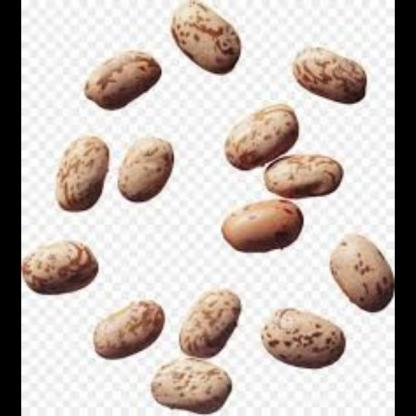beans: (153, 0, 248, 94), (272, 40, 394, 106), (264, 291, 356, 375), (318, 223, 394, 311), (204, 101, 305, 166), (142, 347, 236, 415), (82, 290, 166, 363), (20, 227, 103, 298), (181, 272, 245, 363), (44, 124, 107, 213), (207, 194, 301, 251), (78, 42, 168, 99), (114, 132, 175, 214), (260, 142, 344, 195)
